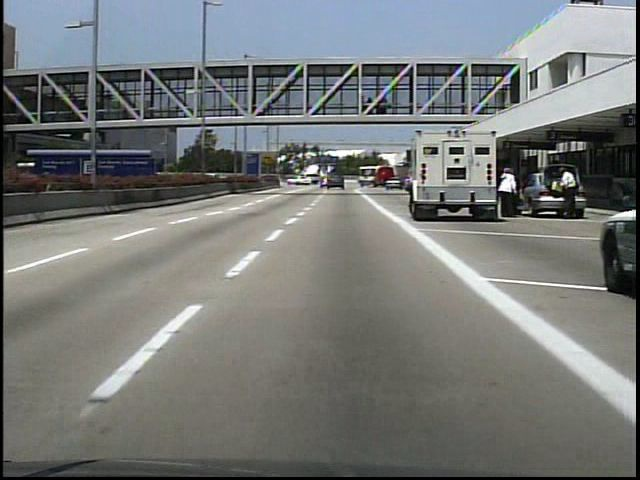person: (496, 161, 521, 221), (553, 163, 579, 219)
